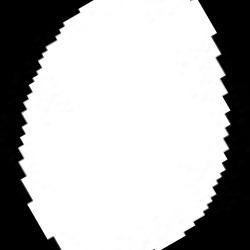spot: (21, 2, 228, 247)
